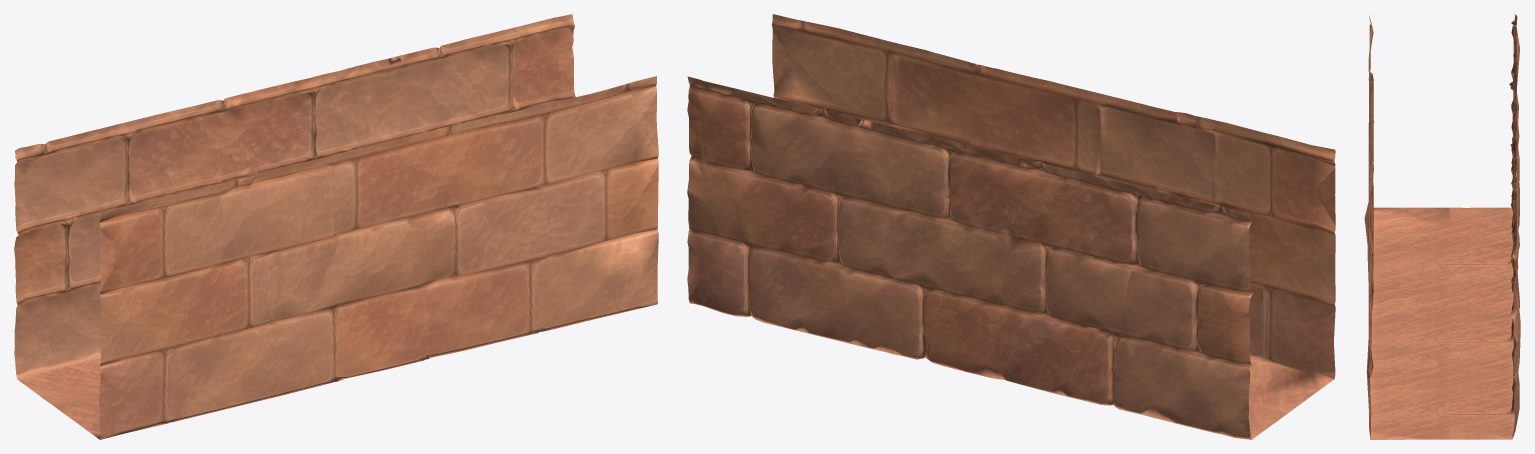
File: retain-course.glb
3 views of the same model, side by side, from view 1: azimuth 30°, elevation 25°; view 2: azimuth 150°, elevation 25°; view 3: azimuth 270°, elevation 25° (orthographic). The views are drawn at different scales.
Visible parts, largest first — view 1: Mesh_0; view 2: Mesh_0; view 3: Mesh_0.
Boxes of the visible parts, x1,y1,x2,y2 form: Mesh_0: [14, 14, 658, 439]; Mesh_0: [687, 14, 1335, 439]; Mesh_0: [1364, 14, 1520, 439].
Bounding box in the file's own units: 2 × 0.78 × 0.5684.
1 material, 1 textured.
